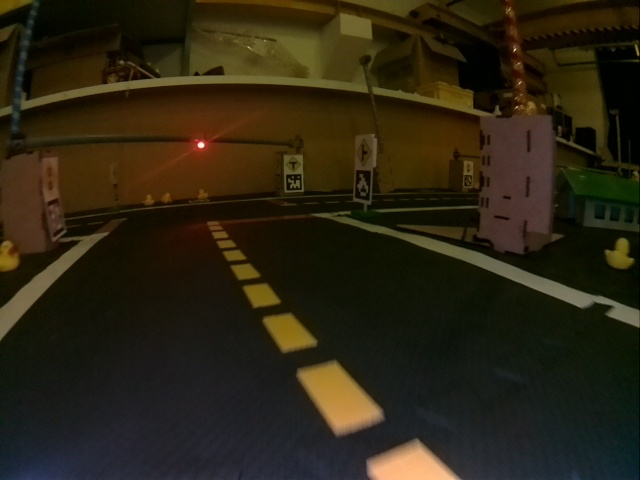Duckie: (605, 238, 633, 268), (4, 241, 16, 272), (142, 195, 152, 205), (162, 193, 171, 202), (199, 191, 208, 197)
Intersection sign: (355, 137, 372, 168), (284, 156, 302, 169)
QR code: (47, 199, 65, 237), (358, 171, 371, 200), (286, 174, 301, 191)
Signal sign: (42, 159, 58, 196)
Traffic light: (195, 138, 208, 147)
